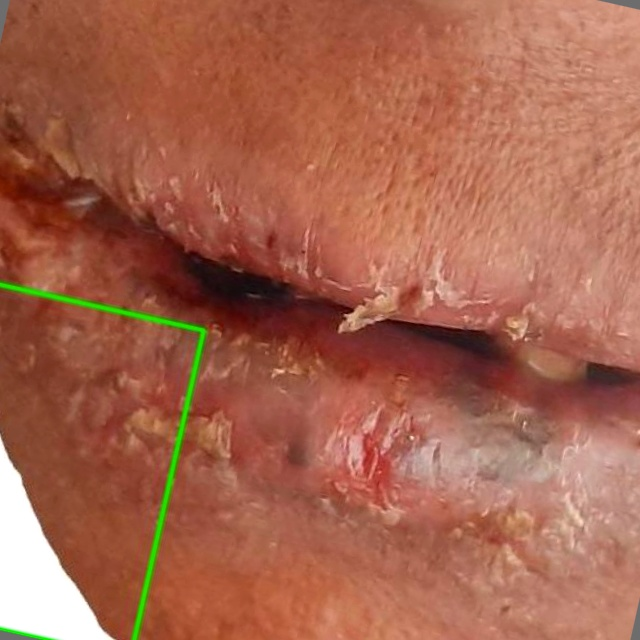Contact Dermatitis: (0, 284, 203, 639)
